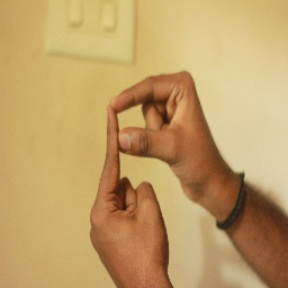P: (90, 62, 207, 248)
